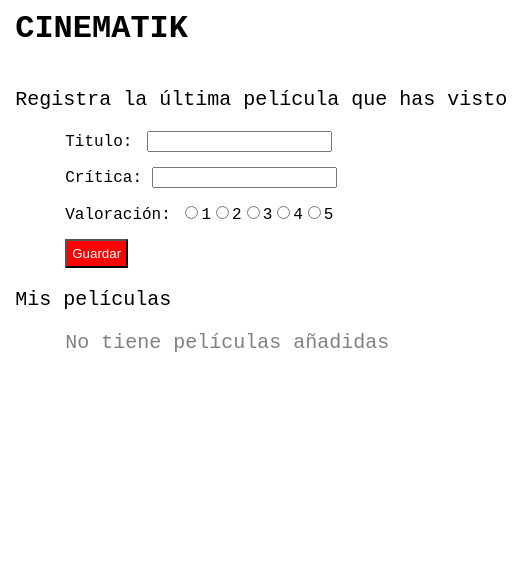
Scenario: Añade un comentario
Step 1. Type "Star Wars" into the field labelled "Titulo:" → (240, 142), box top-left (147, 131), bottom-right (332, 152)
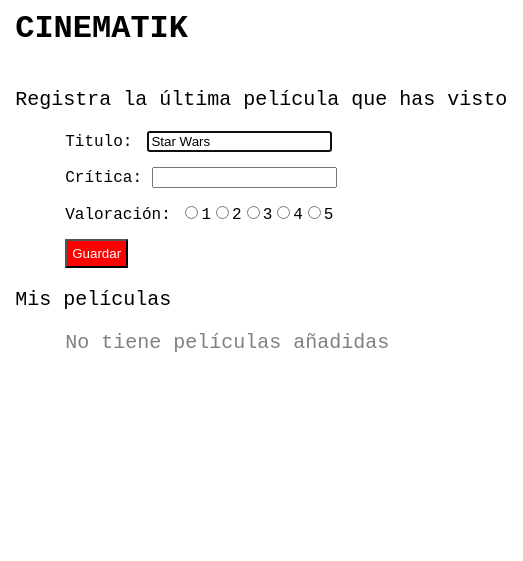
Step 2. Click the button "Guardar" → click(97, 254), box top-left (65, 239), bottom-right (128, 268)
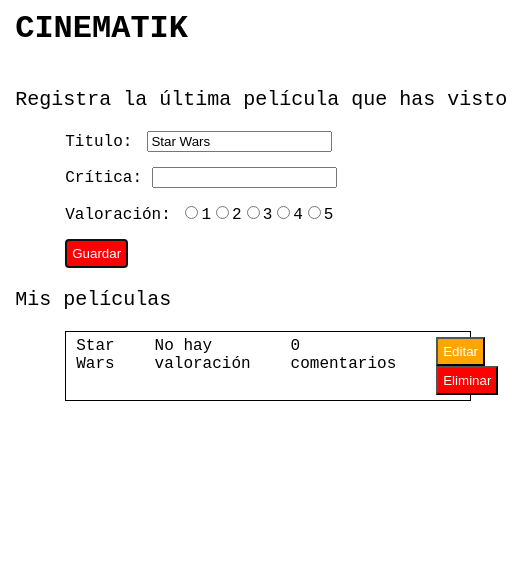
Step 3. Click the button "Editar" → click(461, 352), box top-left (436, 337), bottom-right (485, 366)
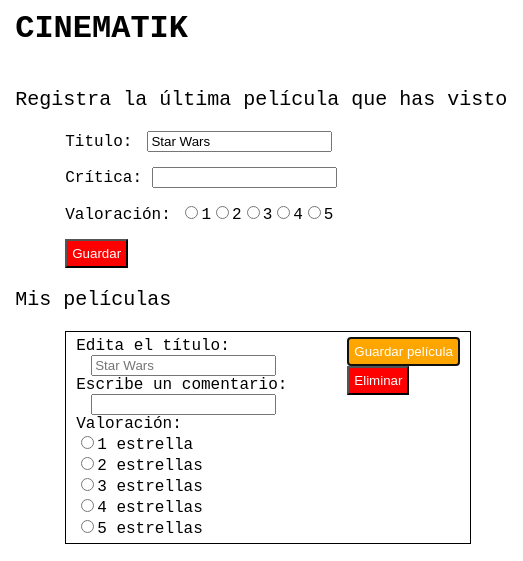
Step 4. Type "Película muy buena" into the field labelled "Escribe un comentario:" → (184, 405), box top-left (91, 394), bottom-right (276, 415)
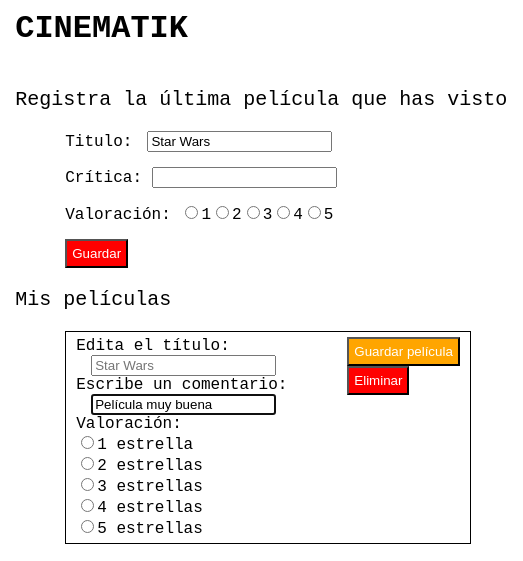
Step 5. Click the button "Guardar película" → click(404, 352), box top-left (347, 337), bottom-right (460, 366)
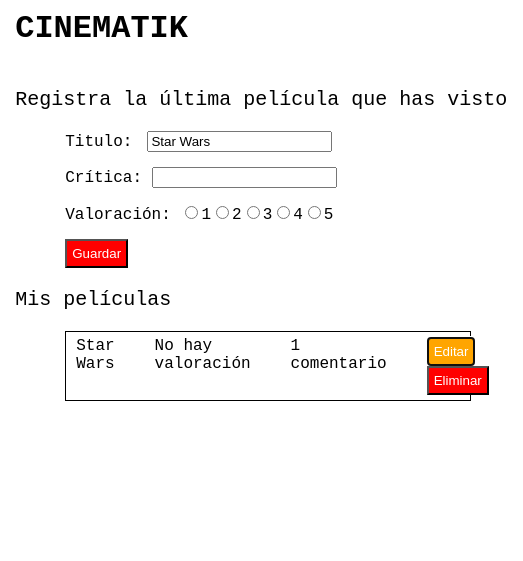
Step 6. Click the text "Star Wars" → click(95, 366), box top-left (76, 337), bottom-right (115, 395)
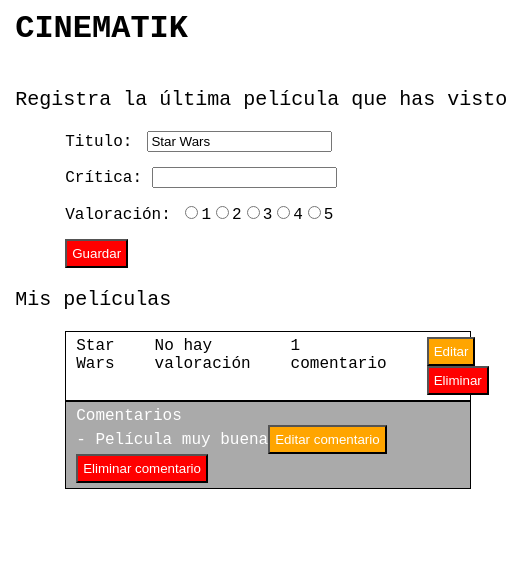
expect the text "- Película muy buena" is shown: met, box top-left (76, 431), bottom-right (268, 449)
